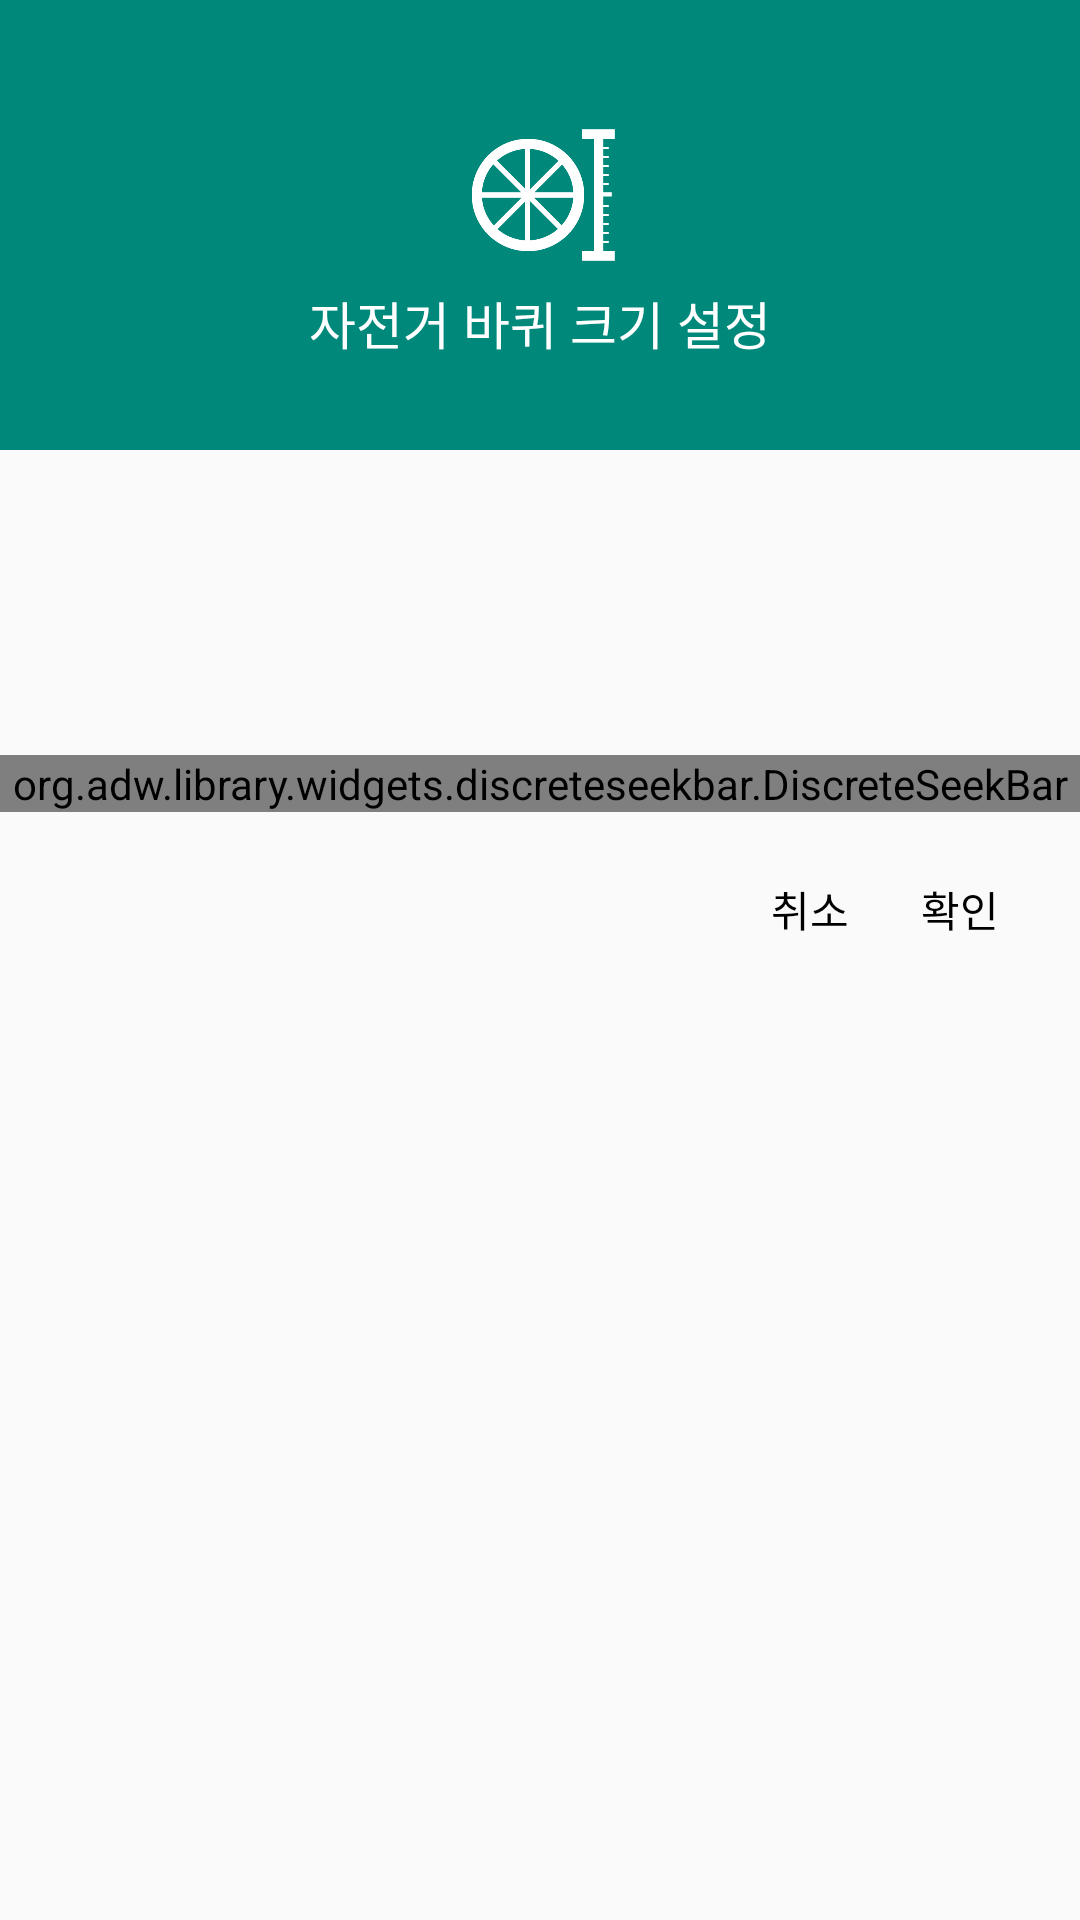

Where to tap for icons on this 1080w x 1920h app screen, as (x,y):
bike size: (543,195)
